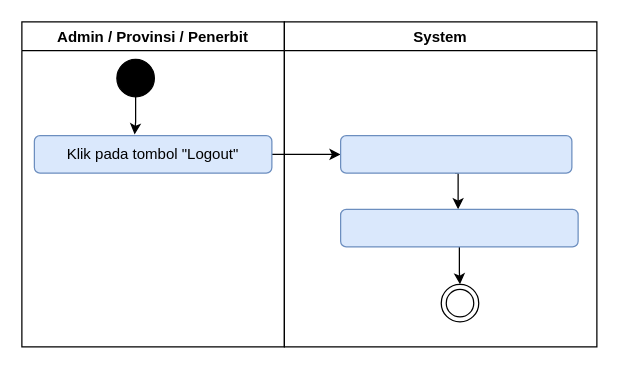
The diagram is 619 pixels wide and 369 high, and some of its shapes have lost their labels. Here are the shapes that lost their labels. From the top down, the centre of each, then its label:
the point at 455,153: menghapus session user
the point at 458,227: redirect ke halaman login user
